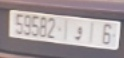2: (47, 17, 56, 39)
5: (31, 15, 40, 37), (15, 12, 23, 36)
6: (101, 23, 113, 45)
8: (40, 17, 48, 39)
9: (24, 13, 31, 37)
waw: (73, 25, 83, 42)
